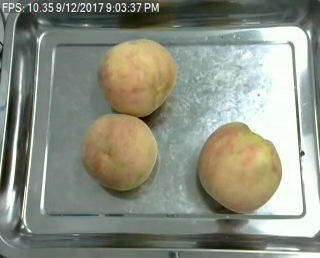Peach: (197, 122, 283, 214), (97, 37, 176, 116), (81, 112, 158, 191)
